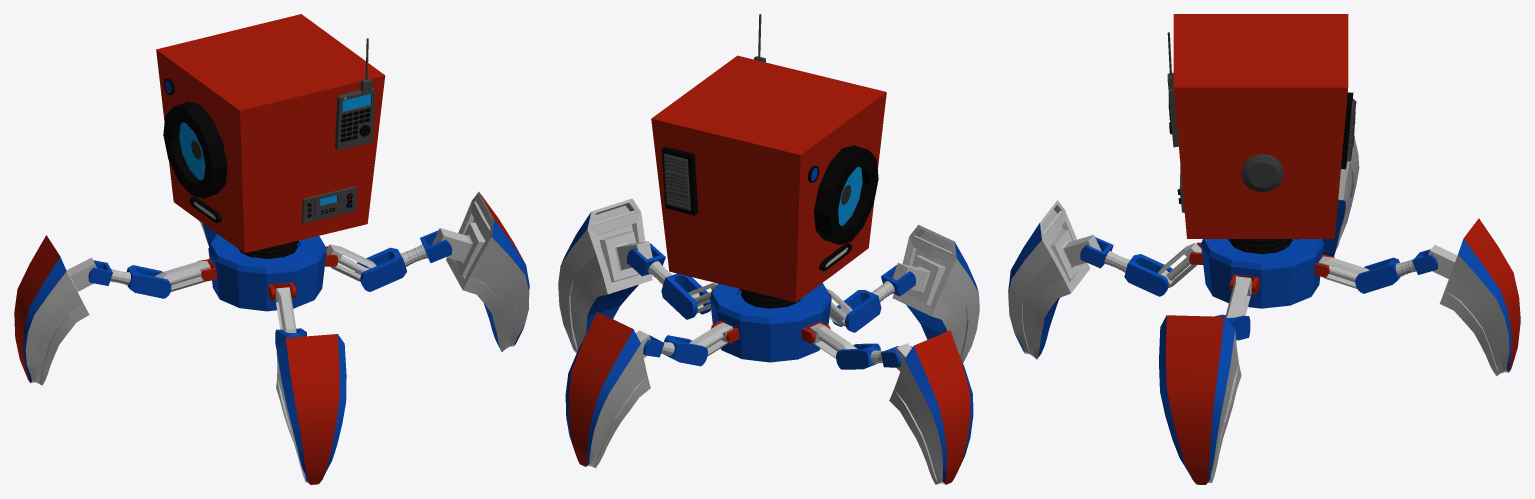
The model's file is ROBOT.glb.
3 renders of one model, left to right at view 1: azimuth 30°, elevation 25°; view 2: azimuth 150°, elevation 25°; view 3: azimuth 270°, elevation 25°, orthographic. The views are drawn at different scales.
Visible parts, largest first — view 1: polySurface144.001; view 2: polySurface144.001; view 3: polySurface144.001.
Boxes of the visible parts, left/top/right/bottom form: polySurface144.001: left=14, top=14, right=529, bottom=484; polySurface144.001: left=558, top=14, right=979, bottom=484; polySurface144.001: left=1008, top=14, right=1520, bottom=484.
Size of the model in its own units: 4.91 by 3.88 by 4.69.
